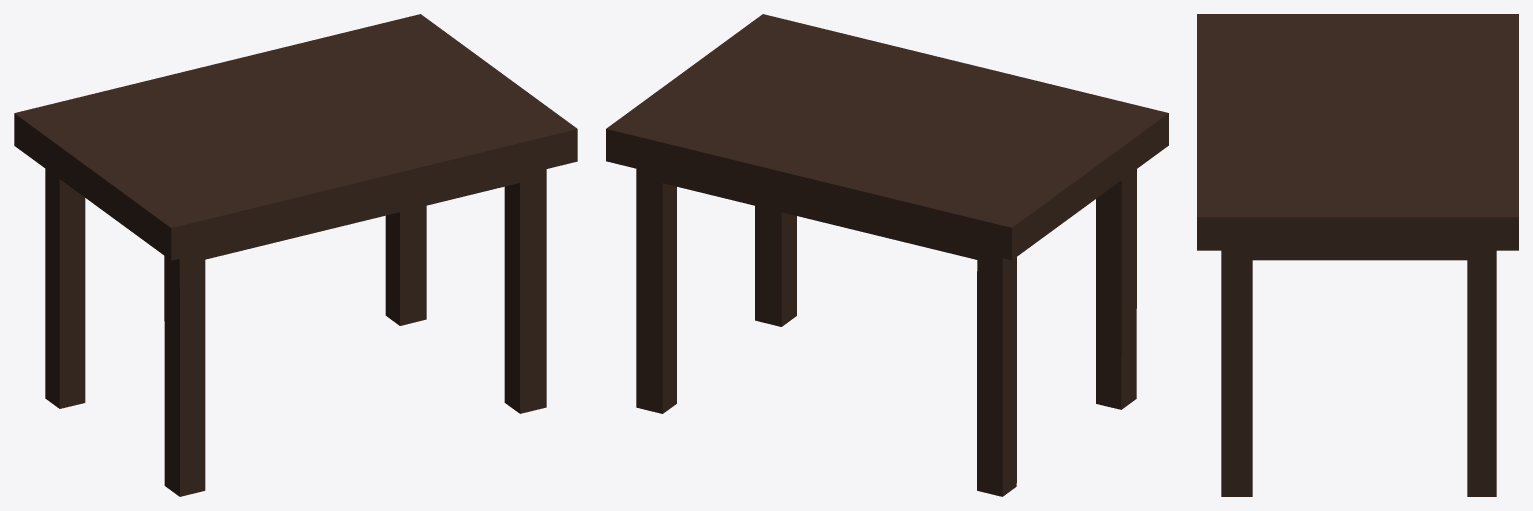
File: table.glb
The picture shows the model from 3 angles, left to right: view 1: azimuth 30°, elevation 25°; view 2: azimuth 150°, elevation 25°; view 3: azimuth 270°, elevation 25°; orthographic projection. The views are drawn at different scales.
Parts seen in each view (by area): view 1: Cube.001; view 2: Cube.001; view 3: Cube.001.
Part boxes in pixels (x1,y1,x2,y2): Cube.001: [14, 14, 577, 496]; Cube.001: [606, 14, 1168, 496]; Cube.001: [1197, 14, 1518, 496].
Size of the model in its own units: 6.02 by 4 by 4.03.
Materials: 1 (1 with a texture image).
